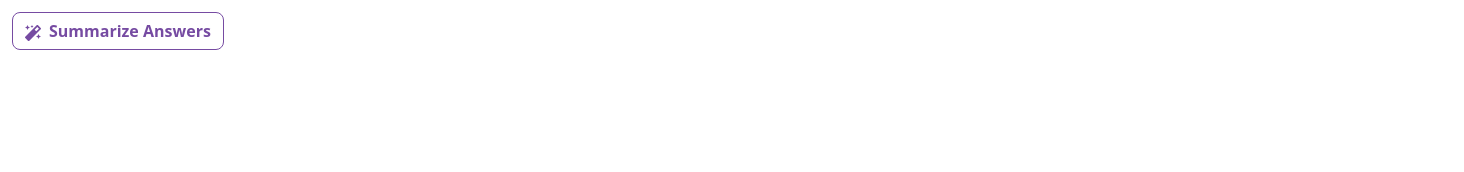
Test: Answer Summarizer › dismissing the banner hides it and brings the button back so it can be regenerated
Click the button "Summarize Answers" at (118, 31), box [12,12,224,50]
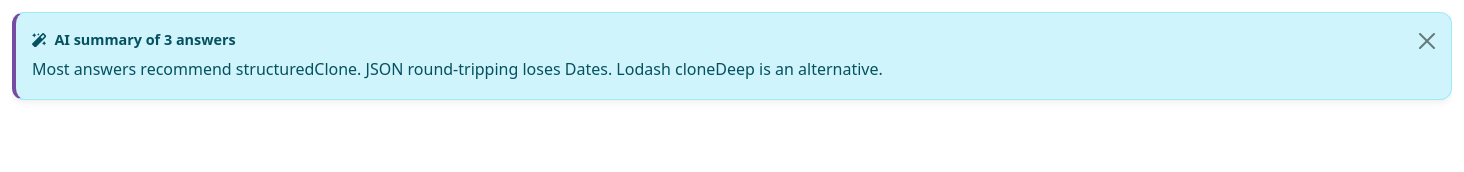
Result: the element named "ai answer summary" is shown at [12,12,1452,100]
Click the button named "dismiss summary" at (1427, 41), box [1403,13,1451,69]
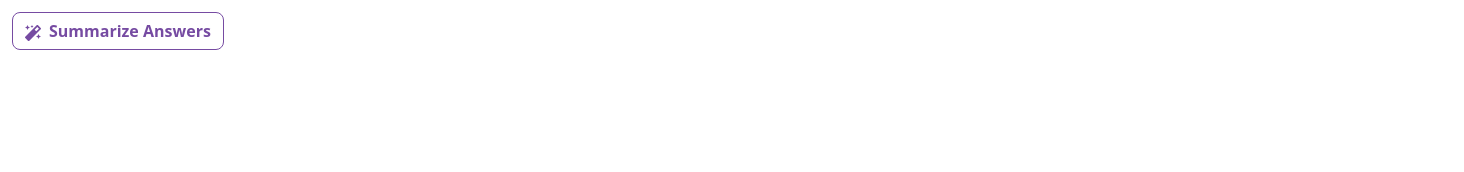
Result: the button "Summarize Answers" is shown
Click the button "Summarize Answers" at (118, 31), box [12,12,224,50]
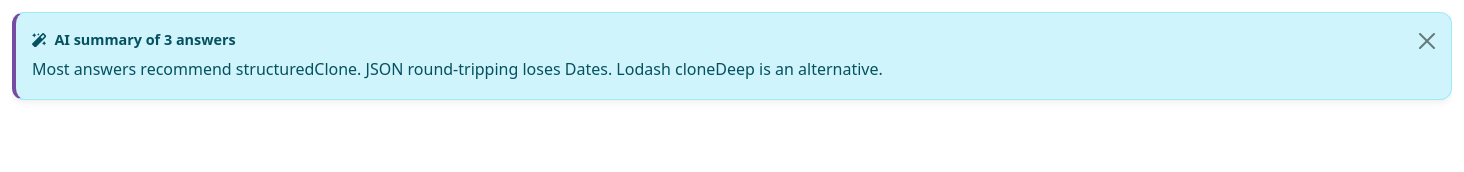
Result: the element named "ai answer summary" is shown at [12,12,1452,100]
